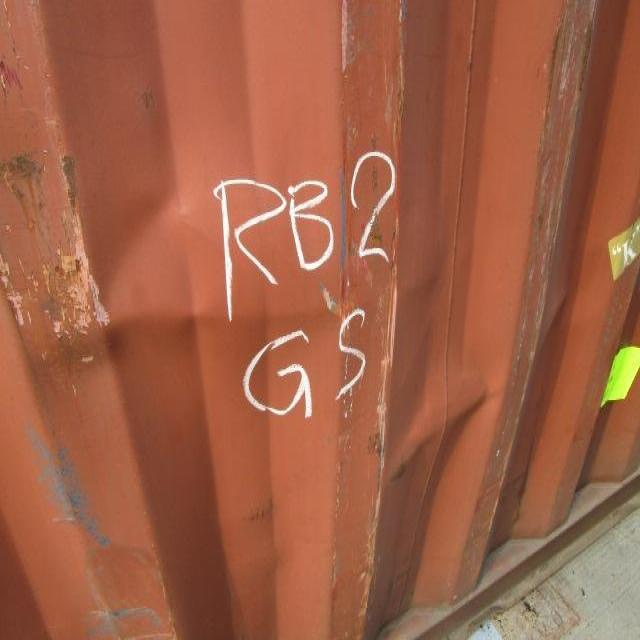dent: (45, 189, 629, 490)
